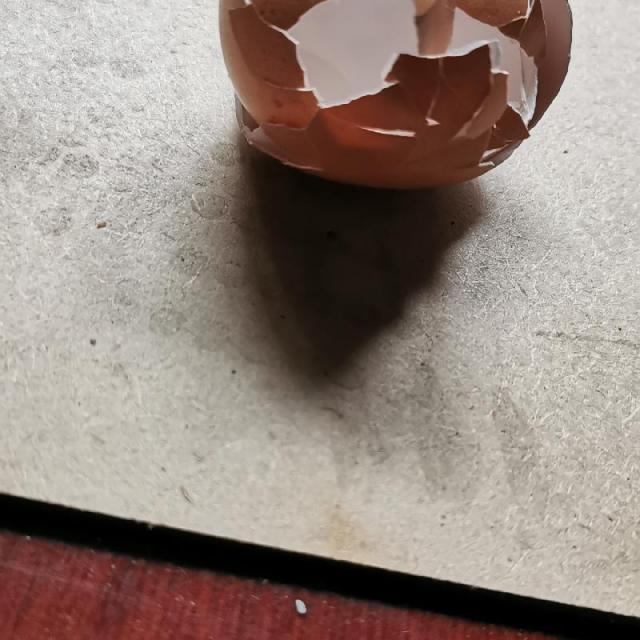egg shell: (209, 2, 572, 194)
